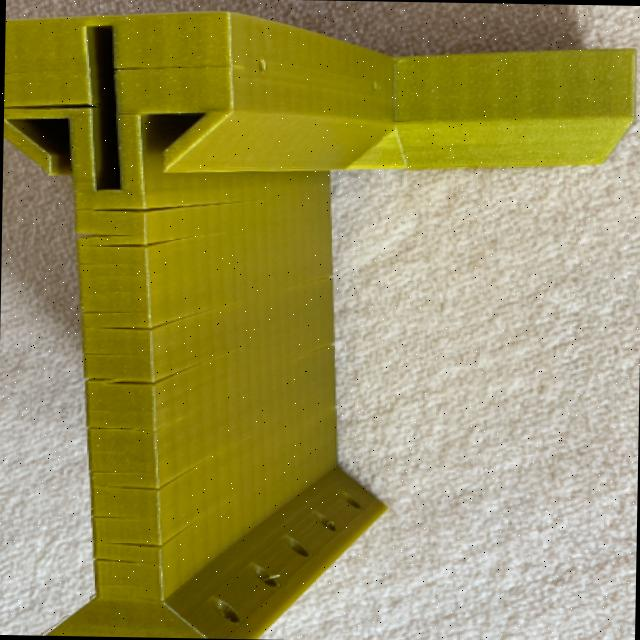cracks: (72, 189, 249, 570), (4, 93, 109, 115), (112, 59, 231, 78)
